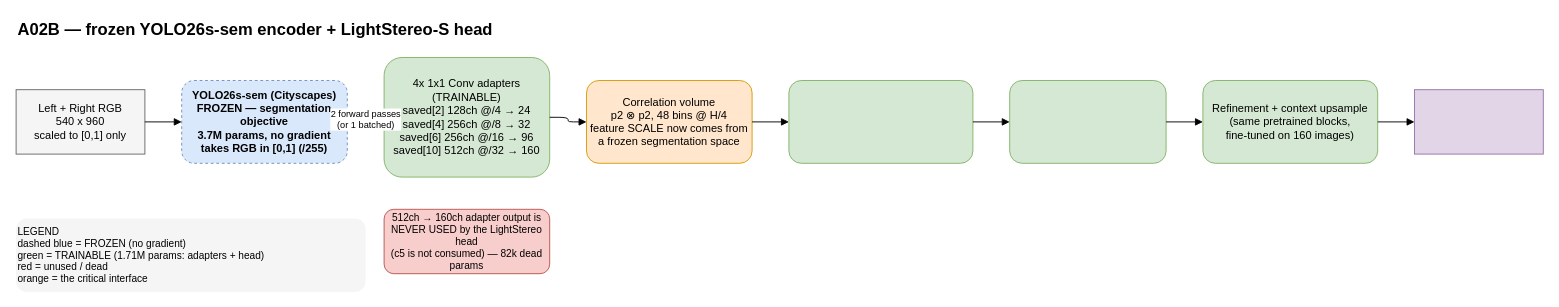
The diagram is 1559 pixels wide and 307 high, and some of its shapes have lost their labels. The shapes that lost their labels are listed below. From the top down, each one's centre as x and y in pixels, then its label:
the point at 880,121: Cost aggregation (same pretrained blocks, fine-tuned on 160 images)
the point at 1087,121: softmax + regression (fine-tuned)
the point at 1478,121: Disparity full res 540 x 960
